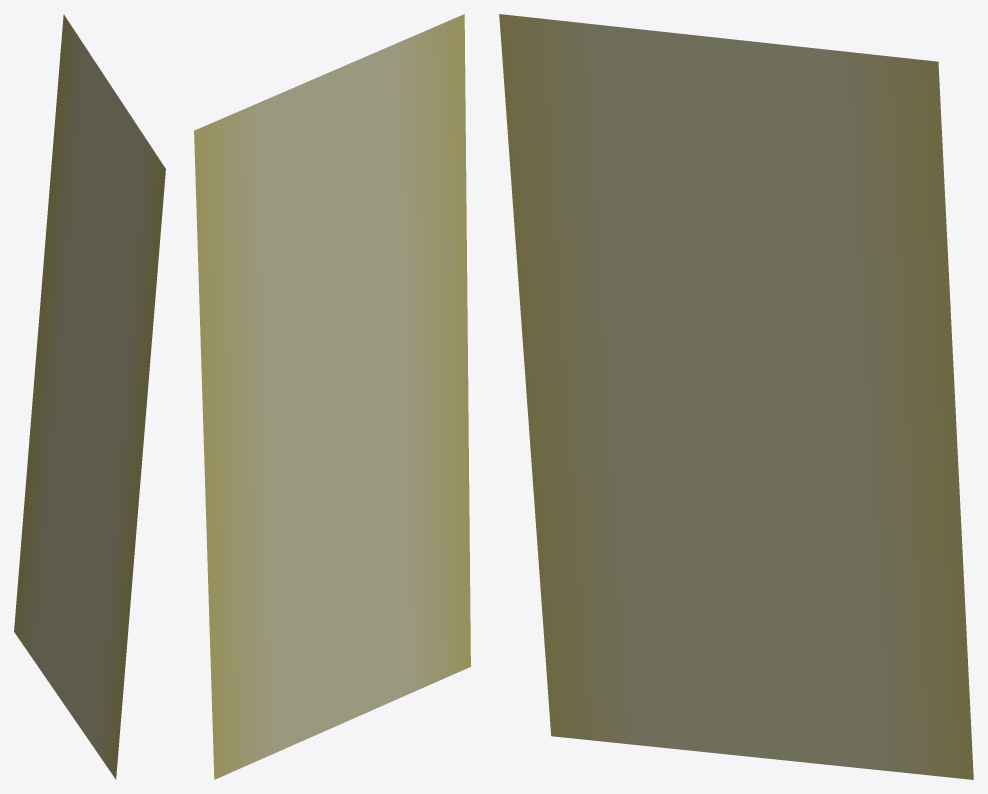
The model's file is WindowRight2_0.glb.
3 renders of one model, left to right at view 1: azimuth 30°, elevation 25°; view 2: azimuth 150°, elevation 25°; view 3: azimuth 270°, elevation 25°, orthographic. The views are drawn at different scales.
Parts seen in each view (by area): view 1: WindowRight2; view 2: WindowRight2; view 3: WindowRight2.
Boxes of the visible parts, <box> form: WindowRight2: <box>14,14,165,779</box>; WindowRight2: <box>194,14,470,779</box>; WindowRight2: <box>499,14,973,779</box>.
Bounding box in the file's own units: 0.2379 × 1.28 × 0.7459.
